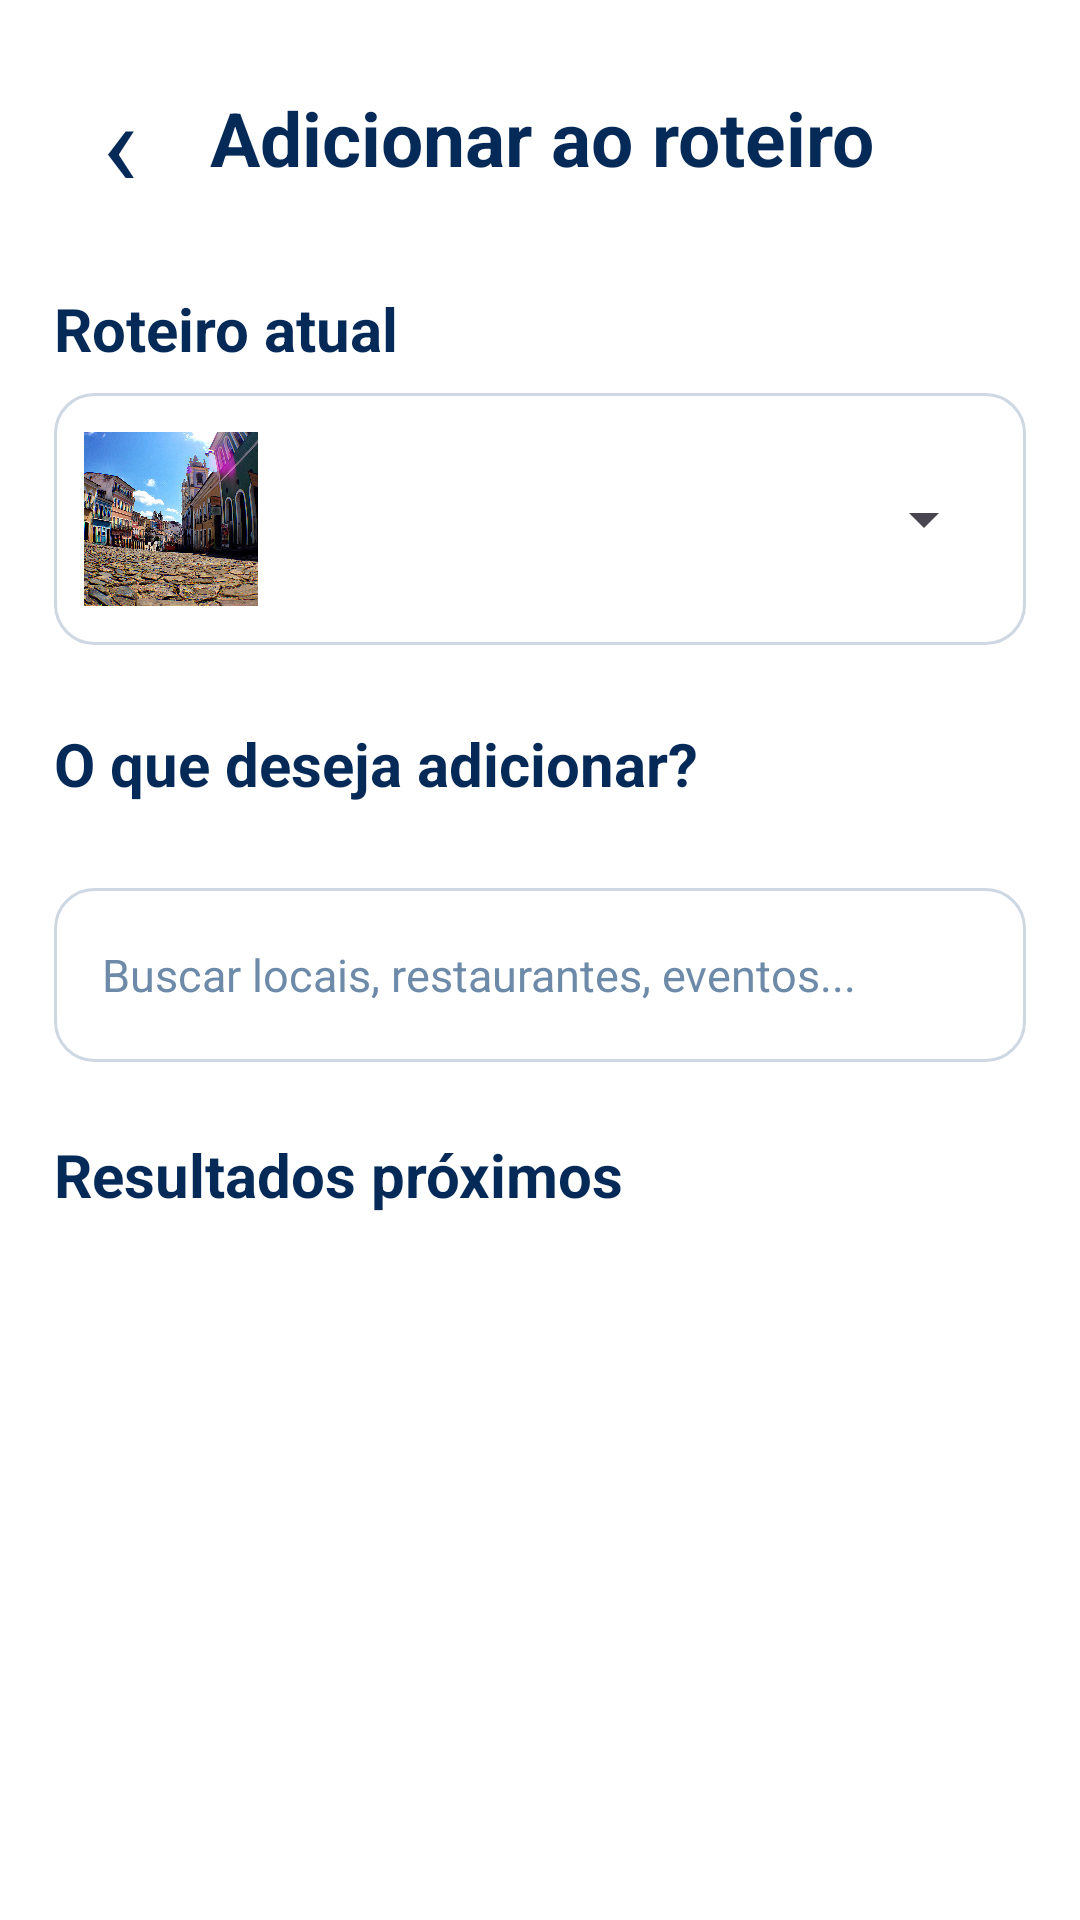

Icon bounding boxes for this 1080px x 1920px phone screenshot, format (x1, y1, x2, y2):
Fotografia do roteiro Salvador Essencial: (84, 432, 258, 606)
